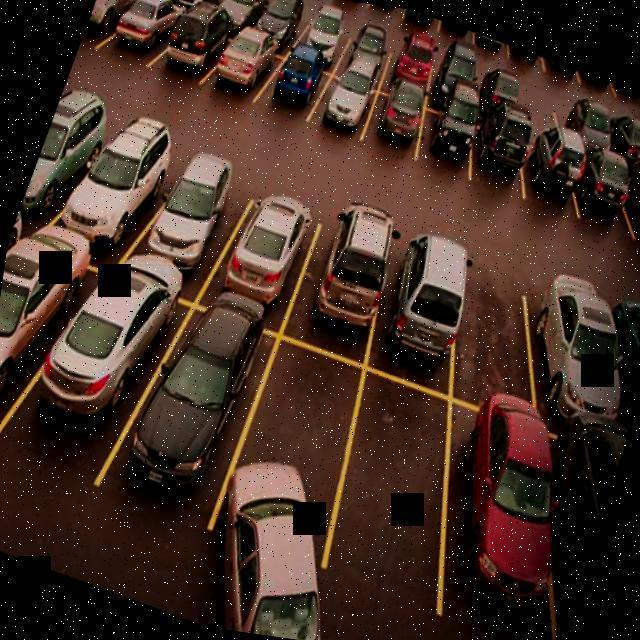car: (412, 384, 584, 632), (9, 246, 185, 484), (210, 333, 380, 563), (120, 298, 274, 526), (344, 220, 490, 400), (496, 272, 640, 450), (0, 217, 98, 470), (198, 178, 334, 357), (125, 138, 259, 316), (52, 105, 186, 282), (279, 193, 417, 361), (17, 90, 112, 240), (551, 146, 640, 246), (202, 17, 290, 113), (153, 0, 240, 91), (256, 42, 338, 137), (508, 127, 588, 218), (300, 64, 384, 150), (104, 0, 194, 74), (461, 116, 538, 198), (548, 84, 628, 162), (411, 90, 483, 176), (418, 42, 497, 120), (358, 83, 433, 164), (372, 36, 446, 106), (79, 0, 156, 64), (471, 62, 536, 137), (330, 24, 399, 92), (596, 160, 640, 266), (294, 9, 354, 69), (595, 101, 640, 175), (253, 0, 309, 54), (218, 0, 269, 33), (175, 0, 230, 21)
free: (305, 364, 481, 598), (420, 252, 564, 420), (505, 80, 574, 152)
